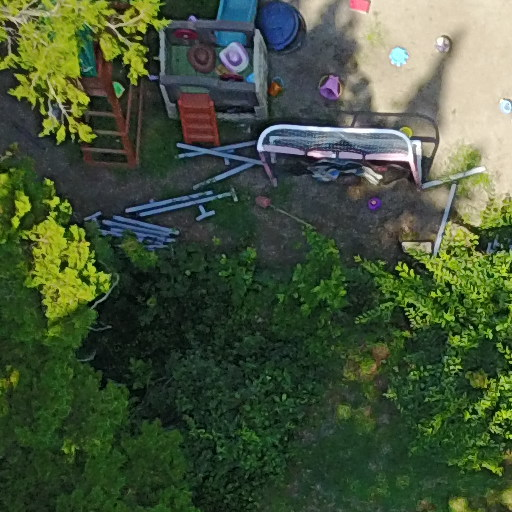toy: (211, 35, 253, 77), (379, 43, 420, 78), (180, 45, 218, 78), (315, 72, 347, 102), (432, 22, 455, 57), (492, 89, 512, 122), (361, 193, 391, 213)
